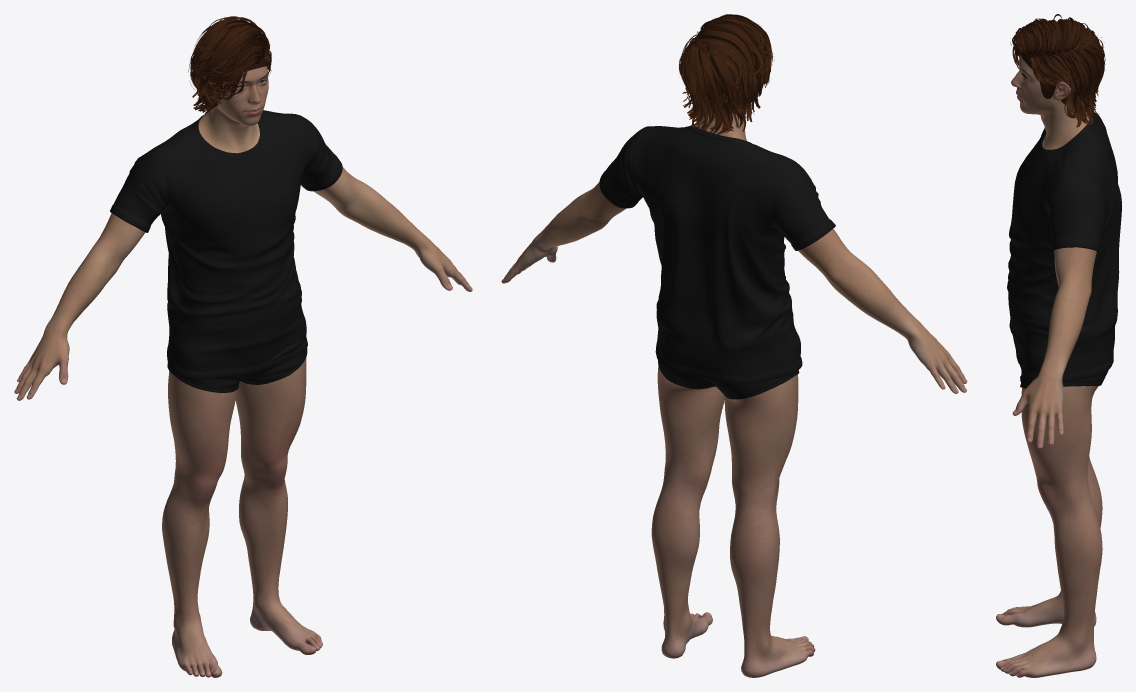
The model's file is male-tan-shorts-tshirt.glb.
3 views of the same model, side by side, from view 1: azimuth 30°, elevation 25°; view 2: azimuth 150°, elevation 25°; view 3: azimuth 270°, elevation 25° (orthographic).
Visible parts, largest first — view 1: Body, Clothing G9 Base Shirt, Hair BS Classic Short Hair for Genesis 9, Clothing G9 Base Shorts; view 2: Clothing G9 Base Shirt, Body, Hair BS Classic Short Hair for Genesis 9, Clothing G9 Base Shorts; view 3: Body, Clothing G9 Base Shirt, Hair BS Classic Short Hair for Genesis 9, Clothing G9 Base Shorts.
Part boxes in pixels (box(x1,y1,x2,y2)): Body: box(14, 66, 472, 677); Clothing G9 Base Shirt: box(110, 110, 342, 379); Hair BS Classic Short Hair for Genesis 9: box(188, 16, 271, 113); Clothing G9 Base Shorts: box(167, 336, 307, 392); Clothing G9 Base Shirt: box(599, 125, 835, 384); Body: box(501, 101, 967, 677); Hair BS Classic Short Hair for Genesis 9: box(679, 14, 774, 134); Clothing G9 Base Shorts: box(658, 339, 799, 399); Body: box(996, 54, 1102, 677); Clothing G9 Base Shirt: box(1007, 112, 1121, 381); Hair BS Classic Short Hair for Genesis 9: box(1010, 14, 1105, 127); Clothing G9 Base Shorts: box(1016, 344, 1109, 388).
Size of the model in its own units: 1.32 by 1.74 by 0.3146.
Materials: 30 (29 with a texture image).
